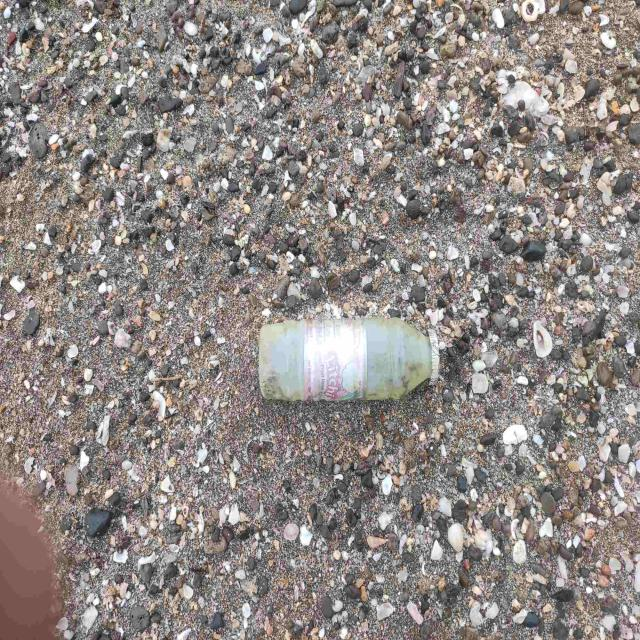hop_nhua: (259, 318, 438, 401)
